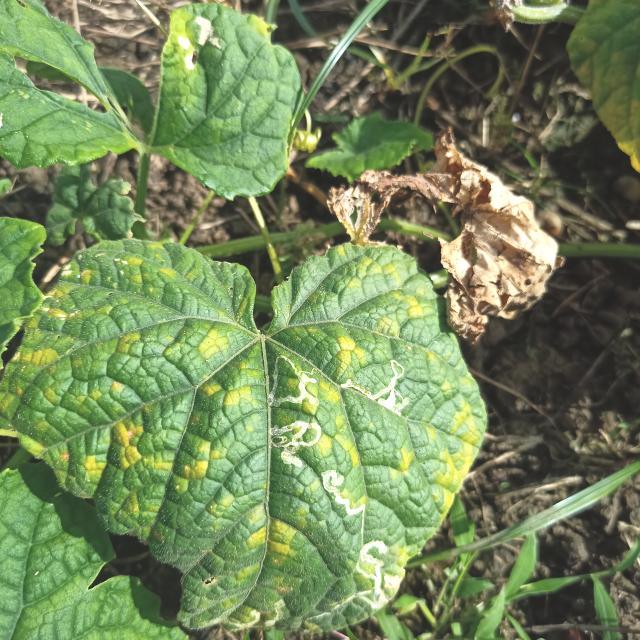disease_cucumber: (16, 246, 480, 615)
